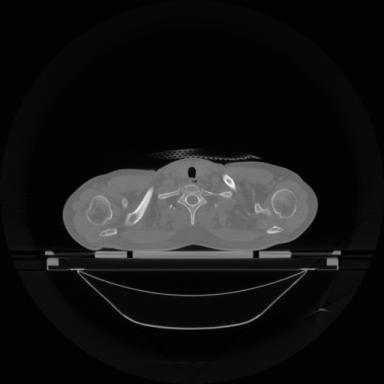body: (63, 158, 317, 250)
cord: (158, 184, 232, 225)
